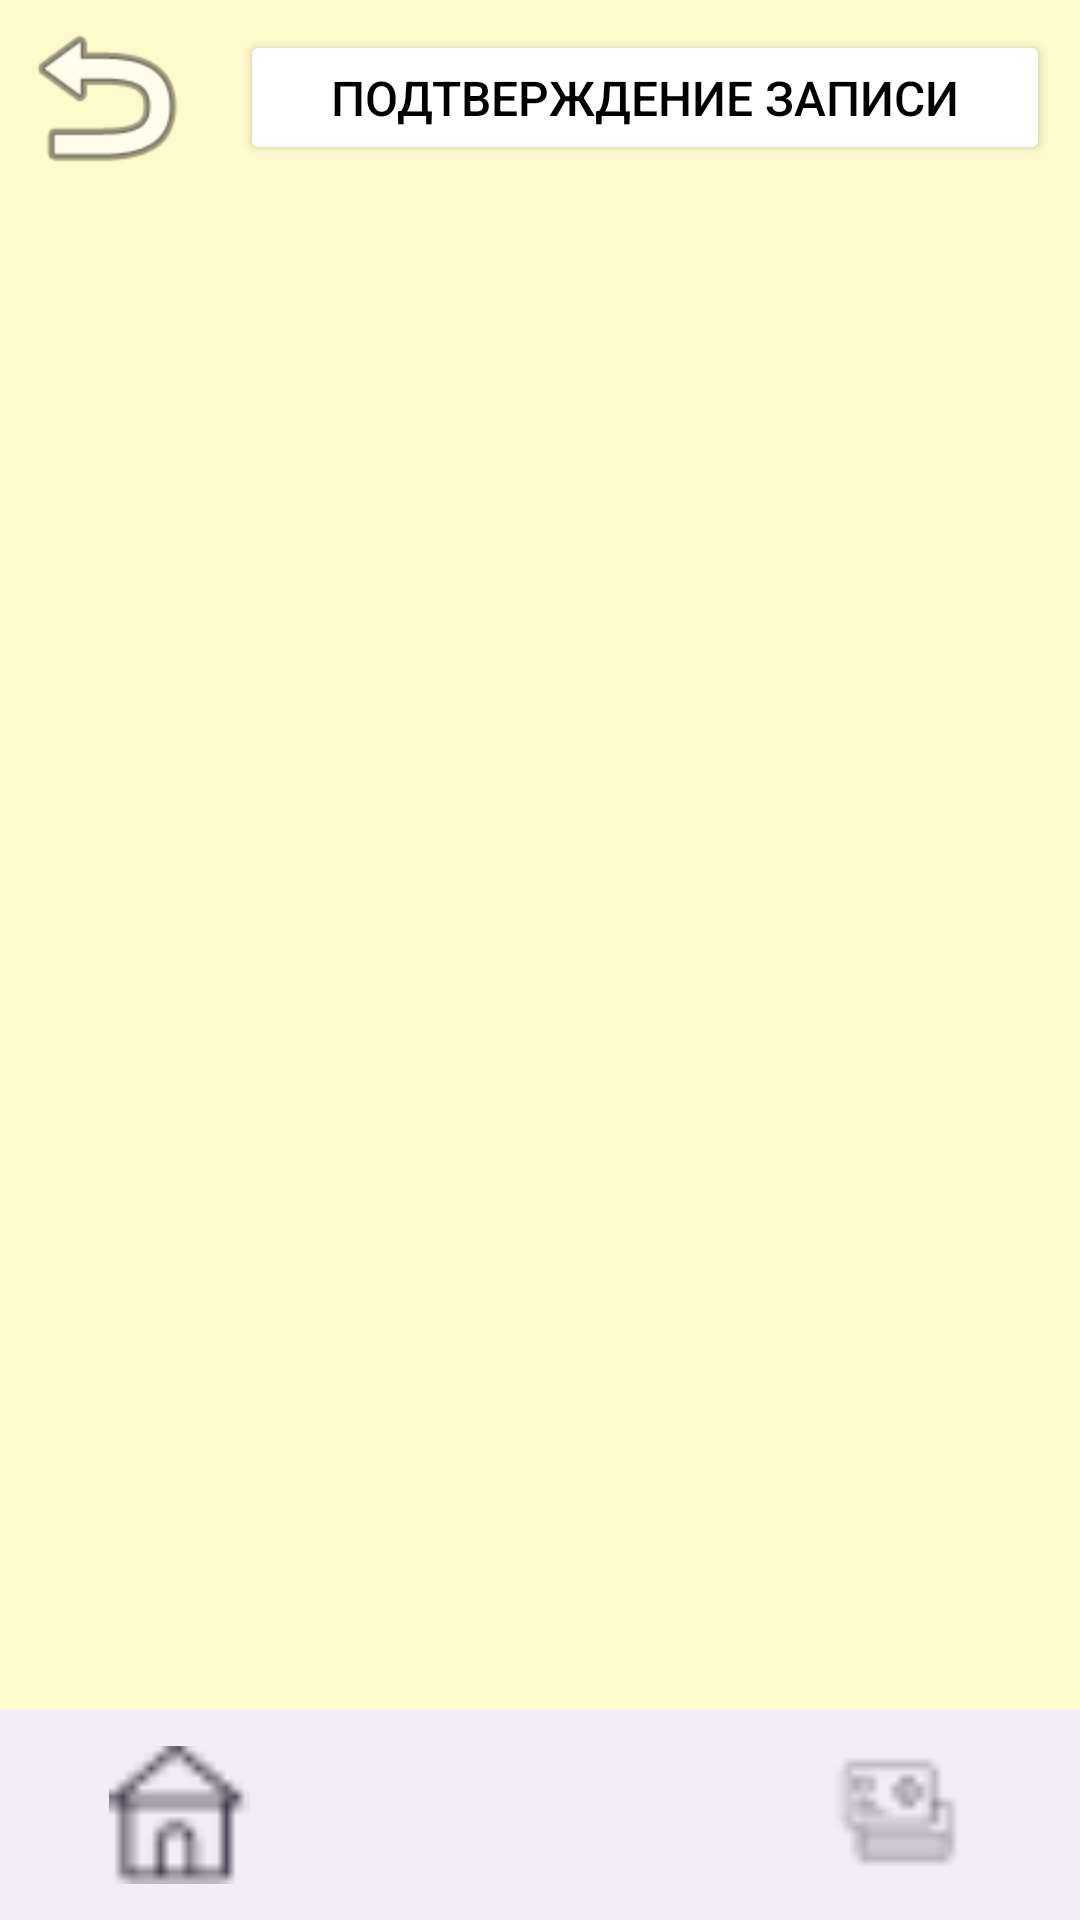

Icons on this 1080 x 1920 Android screen, each with the point to tap as (x,y):
revert: (107,98)
